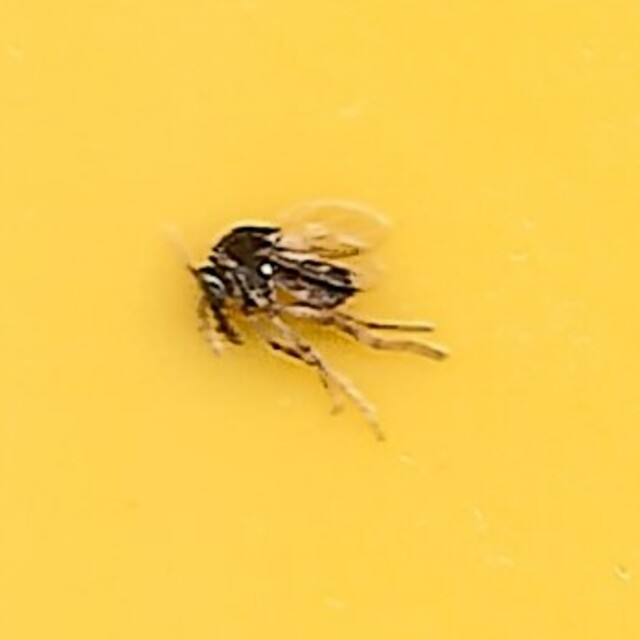Brachycera: (184, 204, 456, 436)
